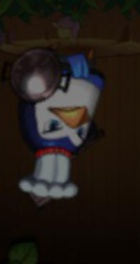ImgView: (1, 1, 139, 263)
